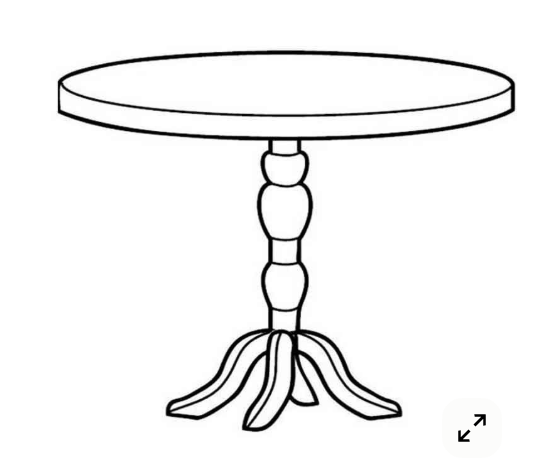table_legs: (165, 139, 403, 433)
table_top: (57, 48, 517, 141)
